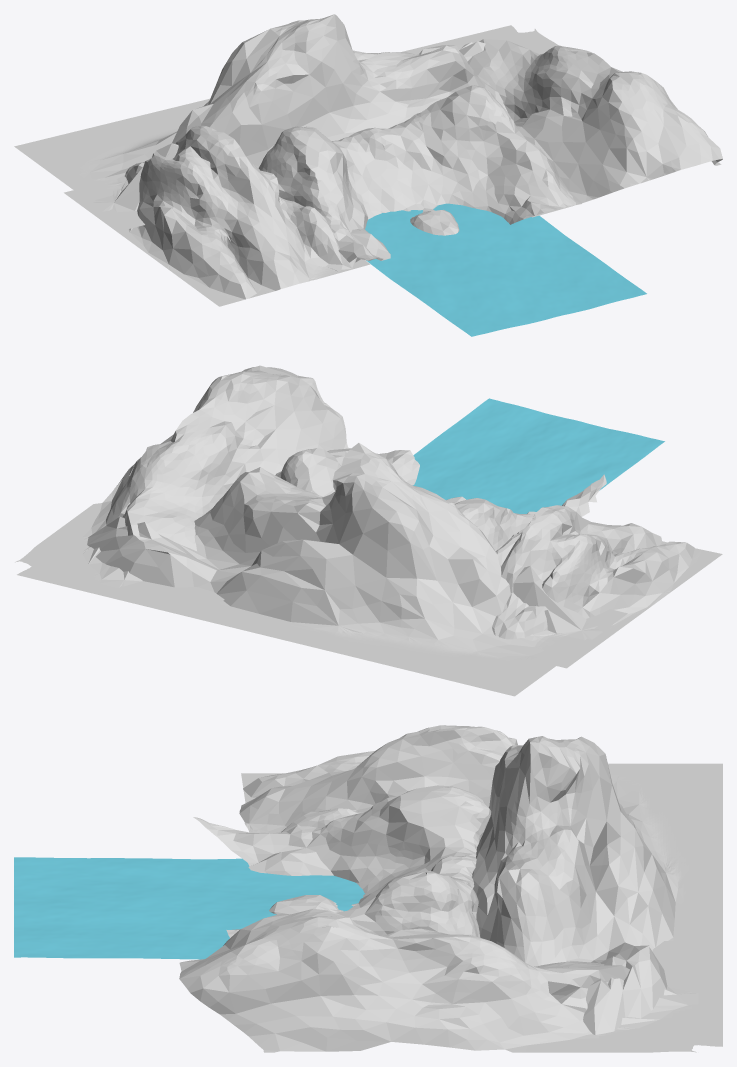
3 views of the same model, one above another, from view 1: azimuth 30°, elevation 25°; view 2: azimuth 150°, elevation 25°; view 3: azimuth 270°, elevation 25° (orthographic). The views are drawn at different scales.
Visible parts, largest first — view 1: Map, Water; view 2: Map, Water; view 3: Map, Water.
Boxes of the visible parts, left/top/right/bottom form: Map: left=14, top=14, right=722, bottom=306; Water: left=365, top=203, right=646, bottom=336; Map: left=15, top=365, right=722, bottom=696; Water: left=413, top=398, right=664, bottom=513; Map: left=179, top=725, right=722, bottom=1052; Water: left=14, top=857, right=364, bottom=959.
Bounding box in the file's own units: 5125 × 1537 × 5271.
